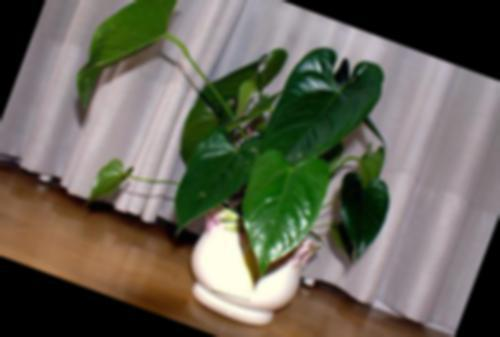Matera: (0, 0, 458, 337)
